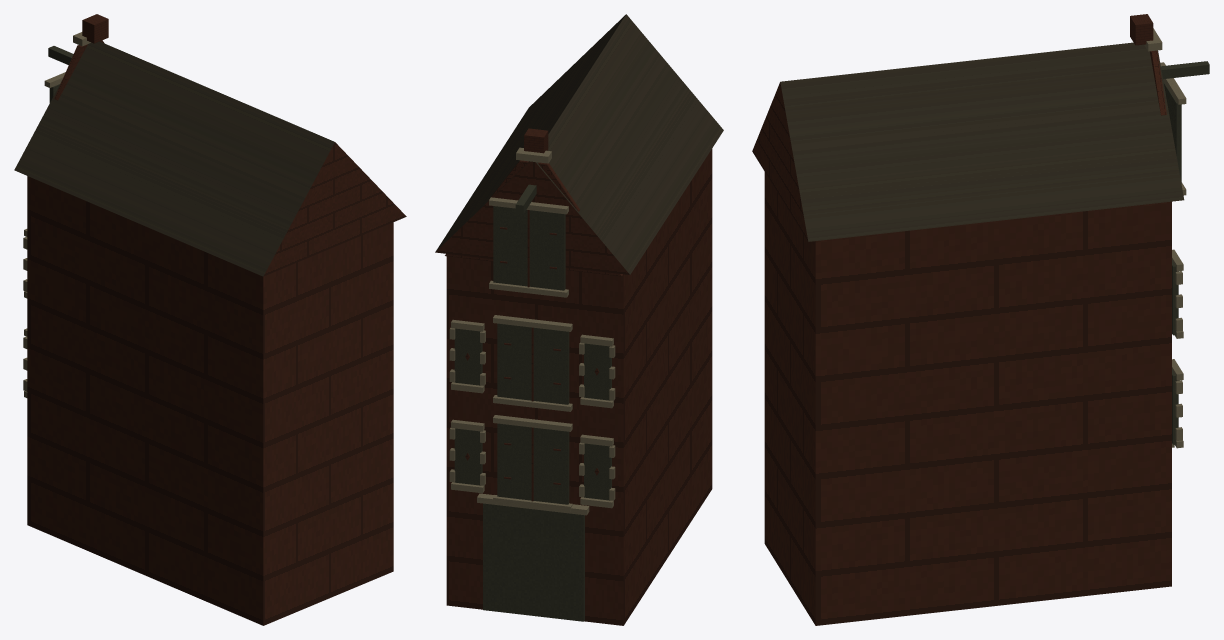
The picture shows the model from 3 angles, left to right: view 1: azimuth 30°, elevation 25°; view 2: azimuth 150°, elevation 25°; view 3: azimuth 270°, elevation 25°; orthographic projection. The views are drawn at different scales.
Parts seen in each view (by area): view 1: houttuin12-0, houttuin12-1, houttuin12-2; view 2: houttuin12-0, houttuin12-3, houttuin12-1, houttuin12-2; view 3: houttuin12-0, houttuin12-1, houttuin12-3, houttuin12-2.
Boxes of the visible parts, left/top/right/bottom form: houttuin12-0: left=27, top=14, right=406, bottom=625; houttuin12-1: left=14, top=41, right=334, bottom=276; houttuin12-2: left=23, top=32, right=90, bottom=397; houttuin12-0: left=435, top=128, right=712, bottom=625; houttuin12-3: left=454, top=184, right=611, bottom=621; houttuin12-1: left=435, top=14, right=723, bottom=274; houttuin12-2: left=449, top=147, right=615, bottom=515; houttuin12-0: left=752, top=14, right=1171, bottom=625; houttuin12-1: left=780, top=42, right=1184, bottom=241; houttuin12-3: left=1161, top=61, right=1209, bottom=444; houttuin12-2: left=1144, top=28, right=1186, bottom=448.
Bounding box in the file's own units: 7.65 × 14.2 × 11.19.
4 materials, 4 textured.
